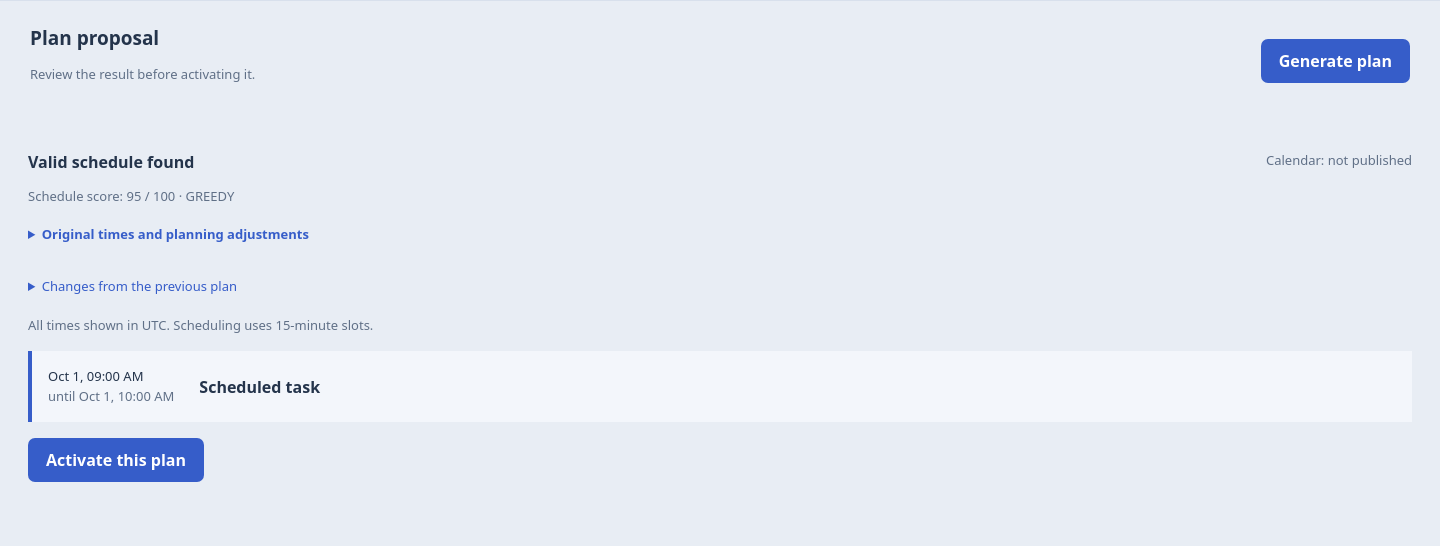
Scenario: proposal stays inactive until the user explicitly activates it
Click the button "Activate this plan": (116, 460) [28,438,204,482]
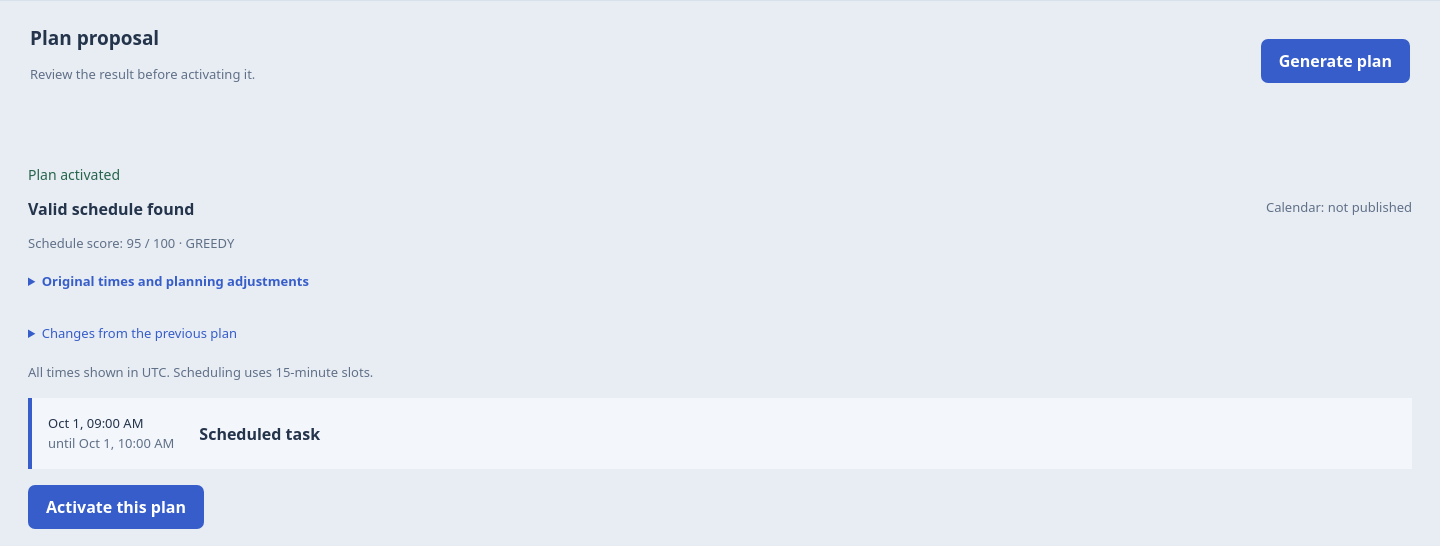
Result: the text "Plan activated" is shown at [28,165,120,184]
